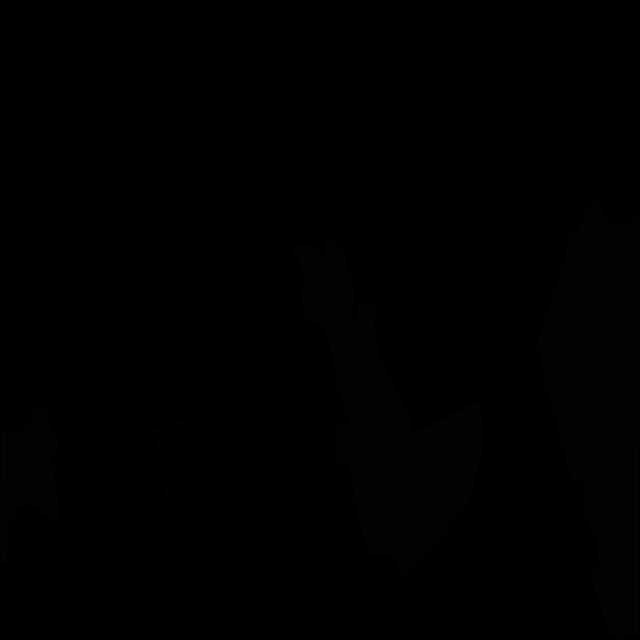cardboard: (537, 198, 640, 639), (332, 386, 484, 576), (291, 239, 414, 435), (0, 410, 62, 565)
rigid_plastic: (152, 410, 228, 500)
